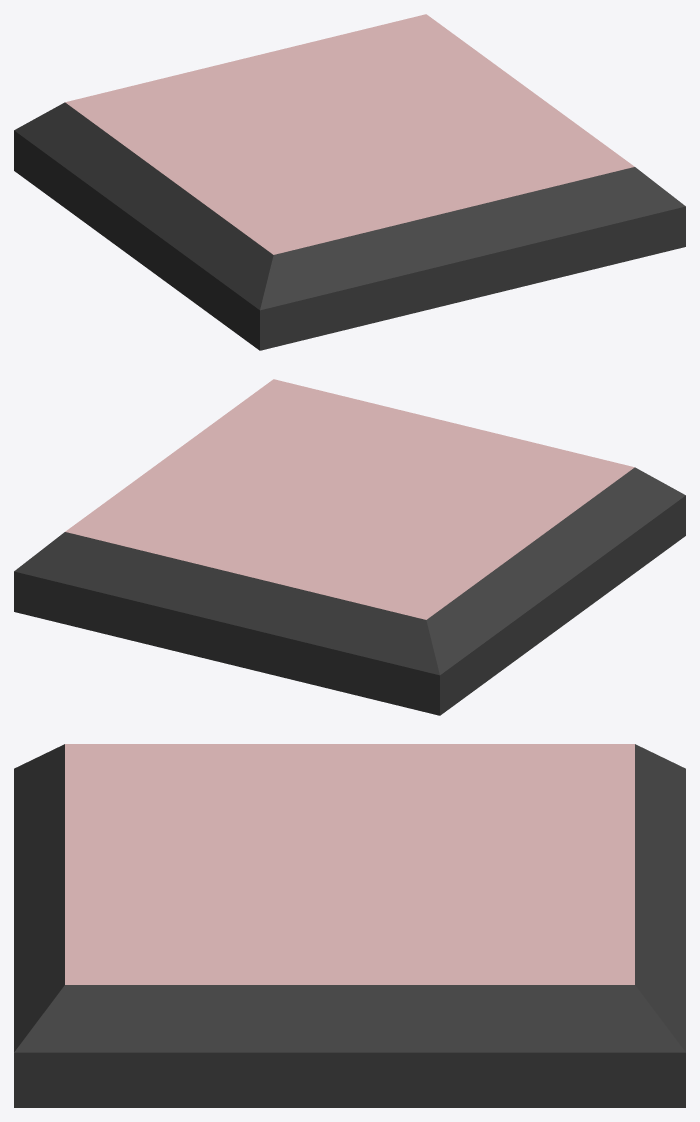
The model's file is lights.fbx.
3 renders of one model, top to bottom at view 1: azimuth 30°, elevation 25°; view 2: azimuth 150°, elevation 25°; view 3: azimuth 270°, elevation 25°, orthographic. The views are drawn at different scales.
Visible parts, largest first — view 1: Cube; view 2: Cube; view 3: Cube.
Part boxes in pixels (box(x1,y1,x2,y2)): Cube: box(14, 14, 685, 350); Cube: box(14, 379, 685, 715); Cube: box(14, 744, 685, 1107).
Size of the model in its own units: 200 by 33.33 by 200.
